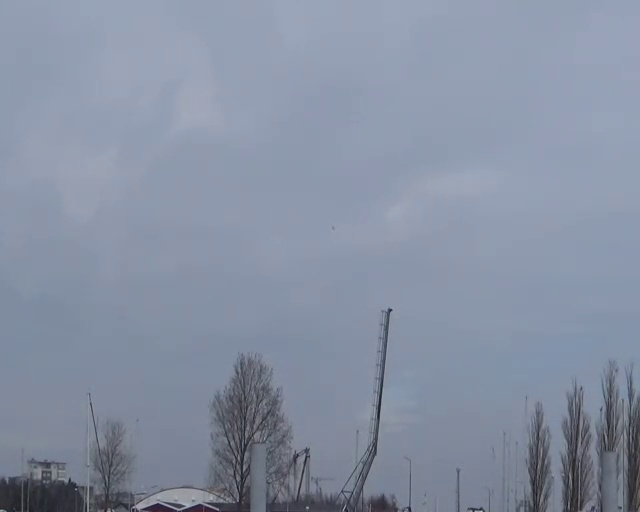BIRD: (331, 220, 340, 231)
